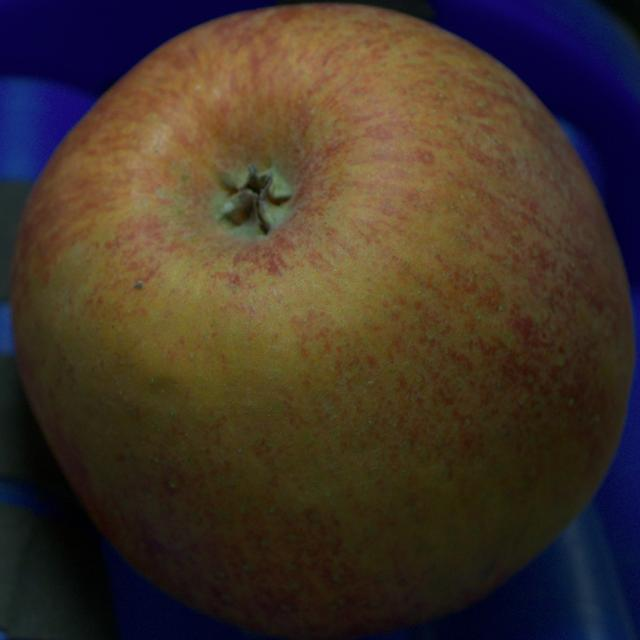apple: (10, 4, 634, 639)
